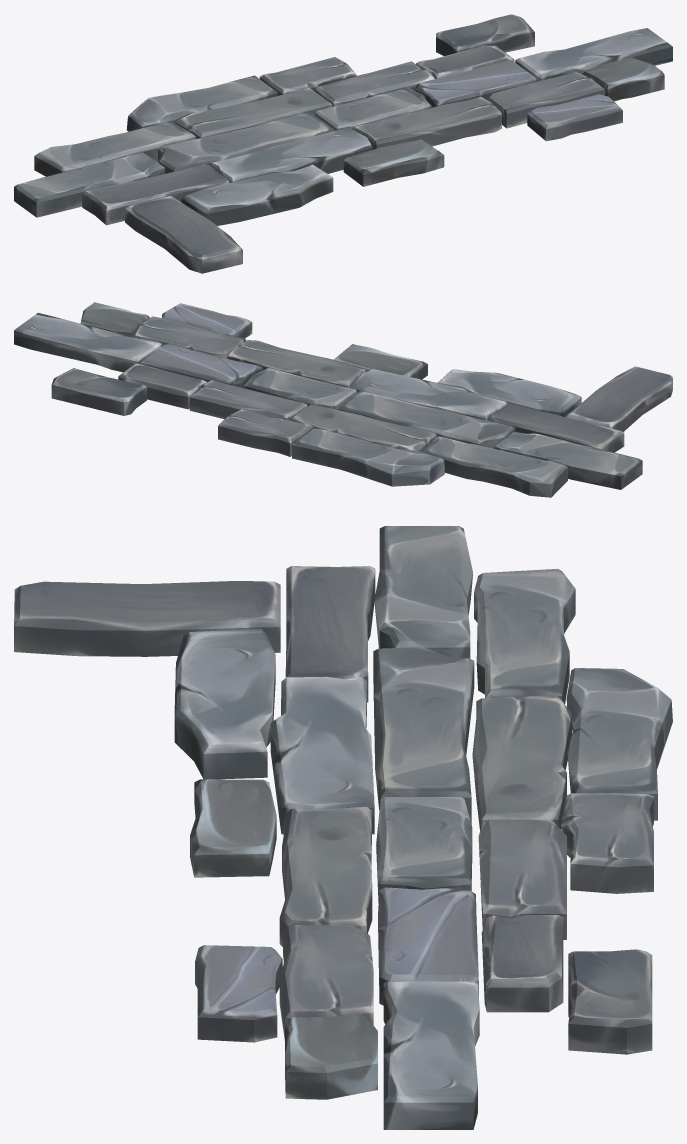
File: dimian02.fbx
3 views of the same model, one above another, from view 1: azimuth 30°, elevation 25°; view 2: azimuth 150°, elevation 25°; view 3: azimuth 270°, elevation 25° (orthographic). The views are drawn at different scales.
Visible parts, largest first — view 1: DIMI001; view 2: DIMI001; view 3: DIMI001.
Boxes of the visible parts, x1,y1,x2,y2 form: DIMI001: (14, 14, 672, 273); DIMI001: (14, 302, 672, 497); DIMI001: (14, 526, 672, 1129).
Bounding box in the file's own units: 494 × 14.33 × 239.
Materials: 1 (1 with a texture image).
